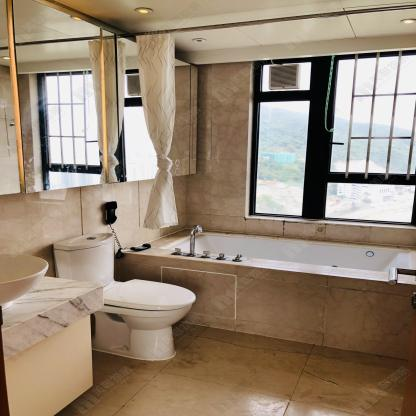Bathtub: (114, 228, 416, 363)
Exhaust Fan: (268, 64, 299, 90)
Toilet: (53, 231, 196, 360)
Toilet Sink: (0, 253, 49, 310)
